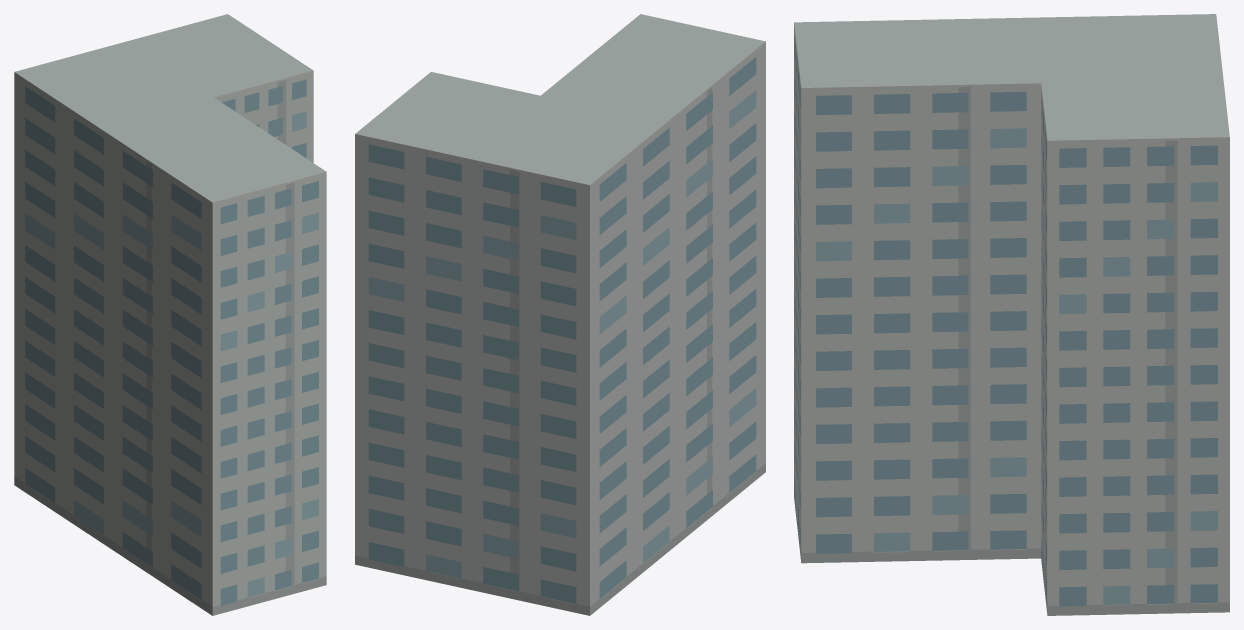
Rendered from residential-98a9fb3e-6091-42d3-8f34-d0dfedbe0bb1.glb.
3 views of the same model, side by side, from view 1: azimuth 30°, elevation 25°; view 2: azimuth 150°, elevation 25°; view 3: azimuth 270°, elevation 25° (orthographic). The views are drawn at different scales.
Parts seen in each view (by area): view 1: residential-98a9fb3e-6091-42d3-8f34-d0dfedbe0bb1.tmp; view 2: residential-98a9fb3e-6091-42d3-8f34-d0dfedbe0bb1.tmp; view 3: residential-98a9fb3e-6091-42d3-8f34-d0dfedbe0bb1.tmp.
Part boxes in pixels (x1=…): residential-98a9fb3e-6091-42d3-8f34-d0dfedbe0bb1.tmp: x1=14, y1=14, x2=326, y2=615; residential-98a9fb3e-6091-42d3-8f34-d0dfedbe0bb1.tmp: x1=355, y1=14, x2=765, y2=615; residential-98a9fb3e-6091-42d3-8f34-d0dfedbe0bb1.tmp: x1=794, y1=14, x2=1229, y2=615.
Size of the model in its own units: 29.19 by 51 by 42.4.
